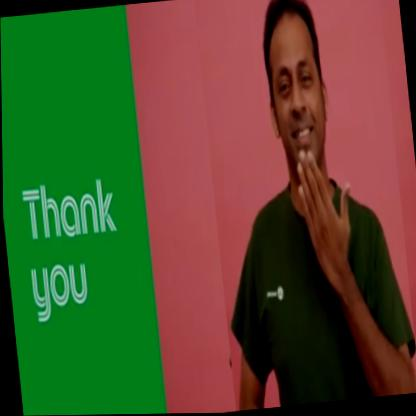ThankYou: (193, 0, 416, 413)
